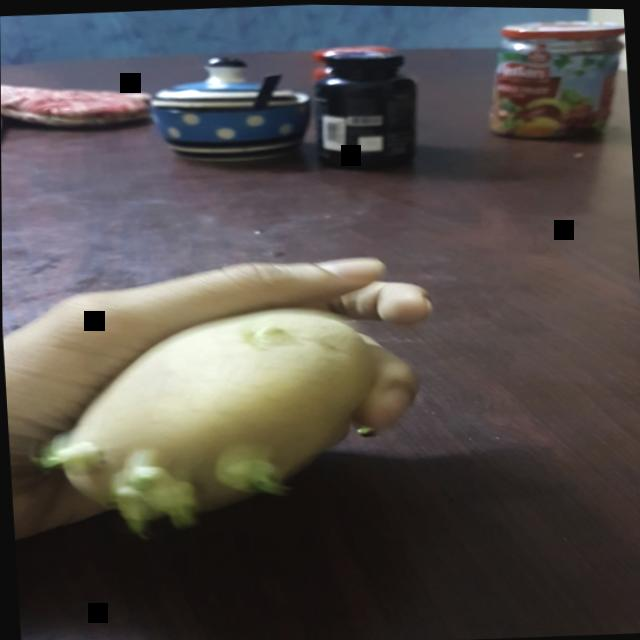potato: (36, 291, 390, 536)
